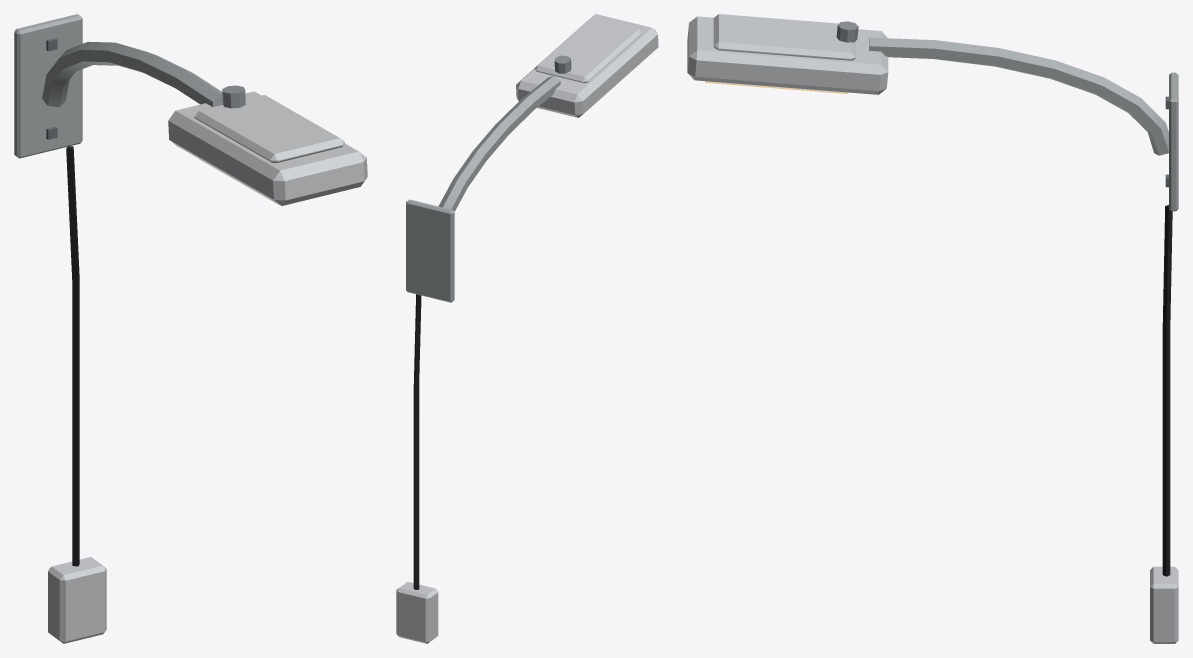
Rendered from SC_Util_Streetlamp_Wall.gltf.
3 views of the same model, side by side, from view 1: azimuth 30°, elevation 25°; view 2: azimuth 150°, elevation 25°; view 3: azimuth 270°, elevation 25° (orthographic). The views are drawn at different scales.
Parts seen in each view (by area): view 1: SC_Util_Streetlamp_Wall; view 2: SC_Util_Streetlamp_Wall; view 3: SC_Util_Streetlamp_Wall.
Boxes of the visible parts, <box> form: SC_Util_Streetlamp_Wall: <box>14,14,367,643</box>; SC_Util_Streetlamp_Wall: <box>396,14,658,643</box>; SC_Util_Streetlamp_Wall: <box>687,14,1178,643</box>.
Size of the model in its own units: 0.2 by 1.39 by 1.03.
2 materials, 2 textured.
